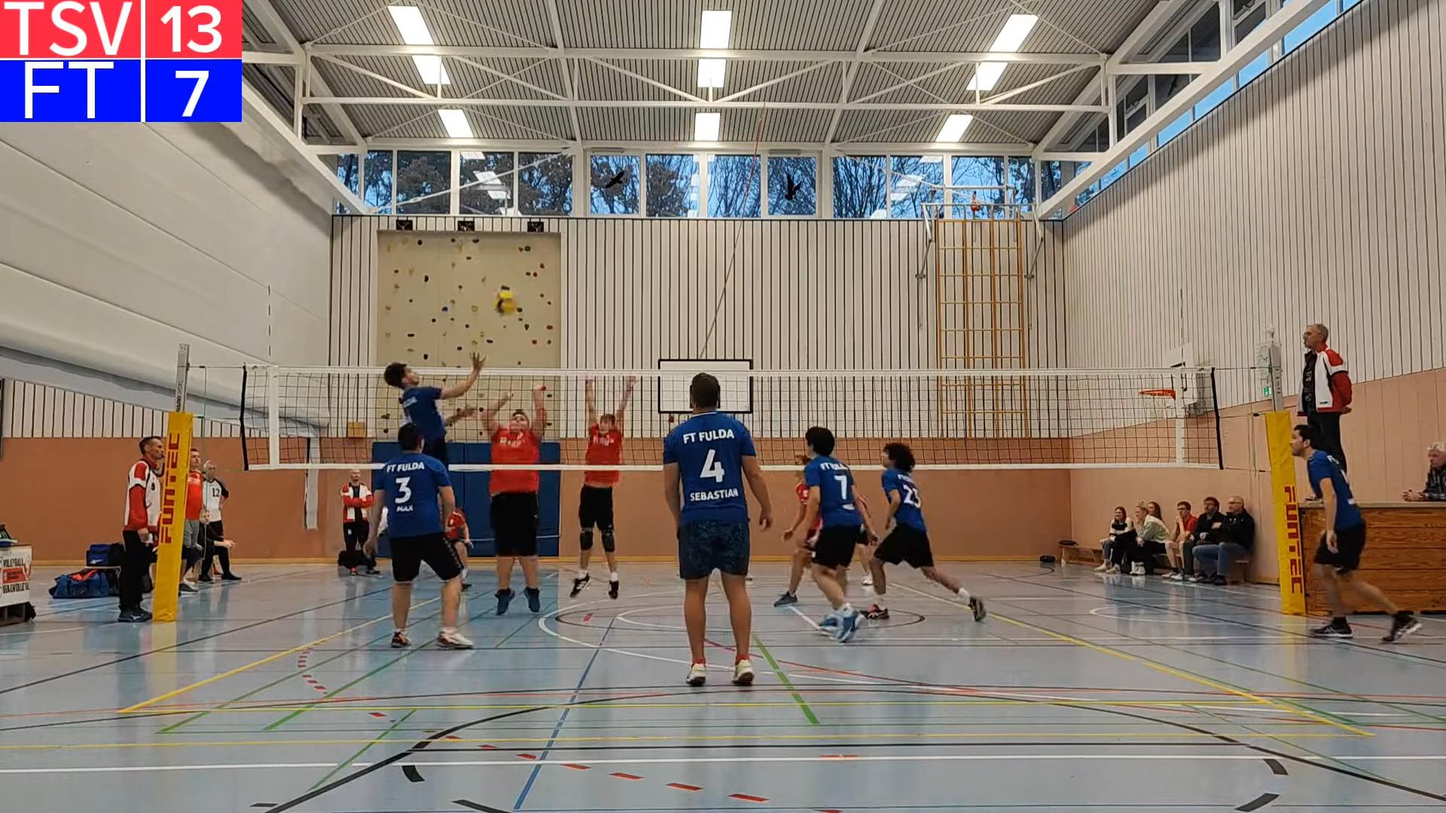attacco: (379, 340, 485, 444)
muro: (567, 360, 638, 611)
